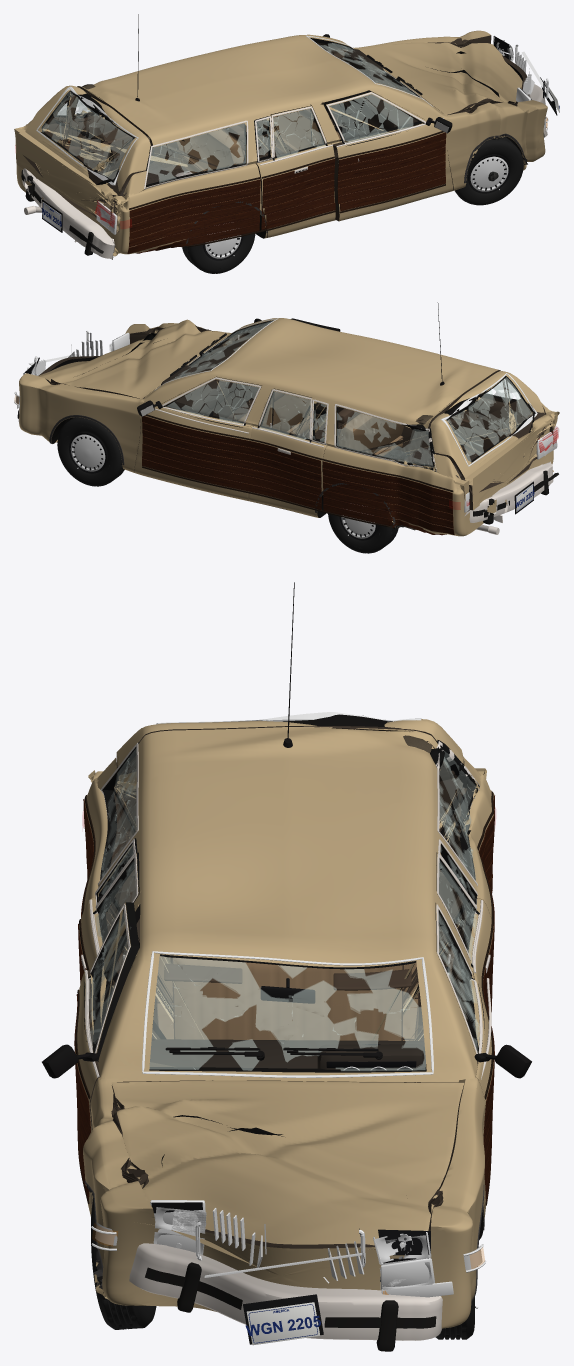
The model's file is wagon82_front_corner_R_d1.glb.
3 views of the same model, one above another, from view 1: azimuth 30°, elevation 25°; view 2: azimuth 150°, elevation 25°; view 3: azimuth 270°, elevation 25° (orthographic). The views are drawn at different scales.
Visible parts, largest first — view 1: Body, Trim, Tailgate, Interior, Hood, Trim_FR, Trim_RR, Glass, Glass_Tailgate, Door_FR, Wheel_FR_mesh, Bumper_R (+5 smaller); view 2: Body, Trim, Interior, Trim_FL, Tailgate, Hood, Trim_RL, Glass, Glass_Tailgate, Wheel_FL_mesh, Door_FL, Glass_FL (+7 smaller); view 3: Body, Hood, Interior, Glass, Bumper_F, Ends, Tailgate, Trim, Door_FR, Trim_FR, Trim_FL, Door_FL (+9 smaller).
Boxes of the visible parts, box(x1,y1,x2,y2) form: Body: box(14, 30, 547, 256); Trim: box(68, 14, 527, 253); Tailgate: box(16, 85, 150, 231); Interior: box(64, 49, 418, 195); Hood: box(355, 42, 522, 114); Trim_FR: box(326, 92, 452, 213); Trim_RR: box(255, 106, 335, 230); Glass: box(57, 35, 433, 186); Glass_Tailgate: box(36, 86, 138, 185); Door_FR: box(323, 90, 452, 221); Wheel_FR_mesh: box(455, 137, 523, 205); Bumper_R: box(21, 168, 115, 259); Body: box(19, 318, 559, 536); Trim: box(49, 302, 507, 535); Interior: box(161, 341, 507, 477); Trim_FL: box(137, 377, 261, 492); Tailgate: box(430, 371, 554, 510); Hood: box(38, 319, 229, 398); Trim_RL: box(247, 389, 328, 510); Glass: box(154, 318, 516, 471); Glass_Tailgate: box(440, 373, 537, 466); Wheel_FL_mesh: box(57, 417, 124, 486); Door_FL: box(134, 376, 261, 500); Glass_FL: box(163, 377, 258, 427); Body: box(83, 727, 494, 1328); Hood: box(111, 1080, 464, 1249); Interior: box(150, 956, 425, 1070); Glass: box(101, 740, 479, 1077); Bumper_F: box(129, 1243, 442, 1351); Ends: box(91, 806, 486, 1345); Tailgate: box(116, 714, 464, 876); Trim: box(81, 582, 494, 1301); Door_FR: box(75, 902, 139, 1216); Trim_FR: box(42, 903, 130, 1203); Trim_FL: box(436, 904, 531, 1205); Door_FL: box(435, 903, 493, 1216).
Bounding box in the file's own units: 4.94 × 2.18 × 2.14.
35 materials, 6 textured.
